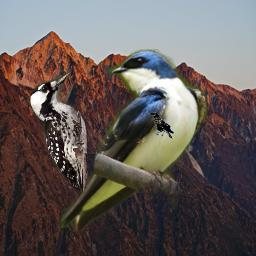Crow: (148, 112, 174, 139)
Swallow: (58, 49, 208, 232)
Woodpecker: (27, 71, 88, 192)
